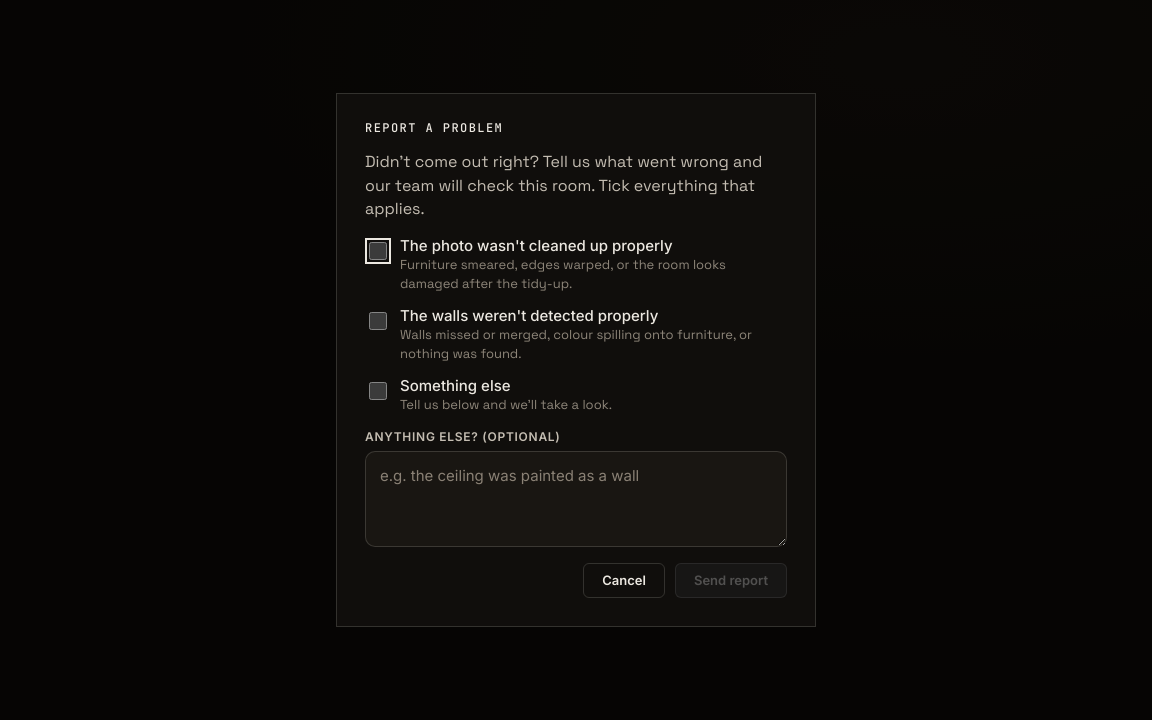
Test case: ReportDialog › keeps the form and the typing when sending fails
Click the checkbox labelled "walls weren't detected properly" at (378, 321), box [369,312,387,330]
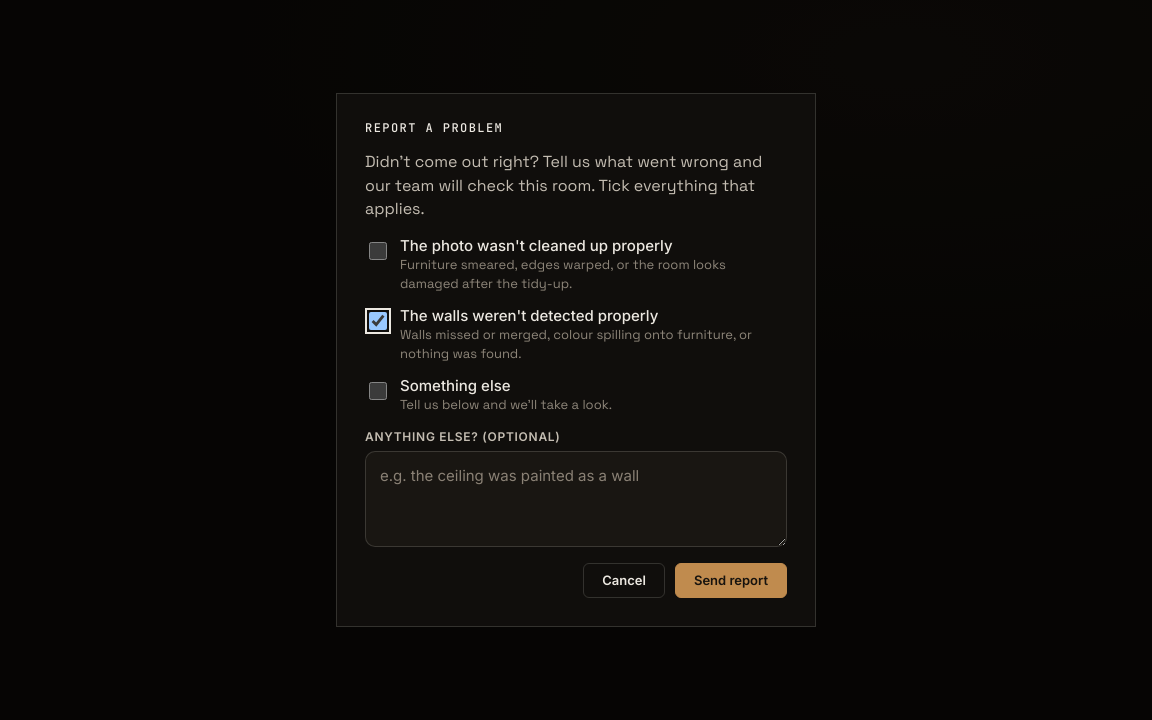
Type "half the wall is missing" into the text box labelled "Anything else? (optional)" at (576, 499), box [365,451,787,546]
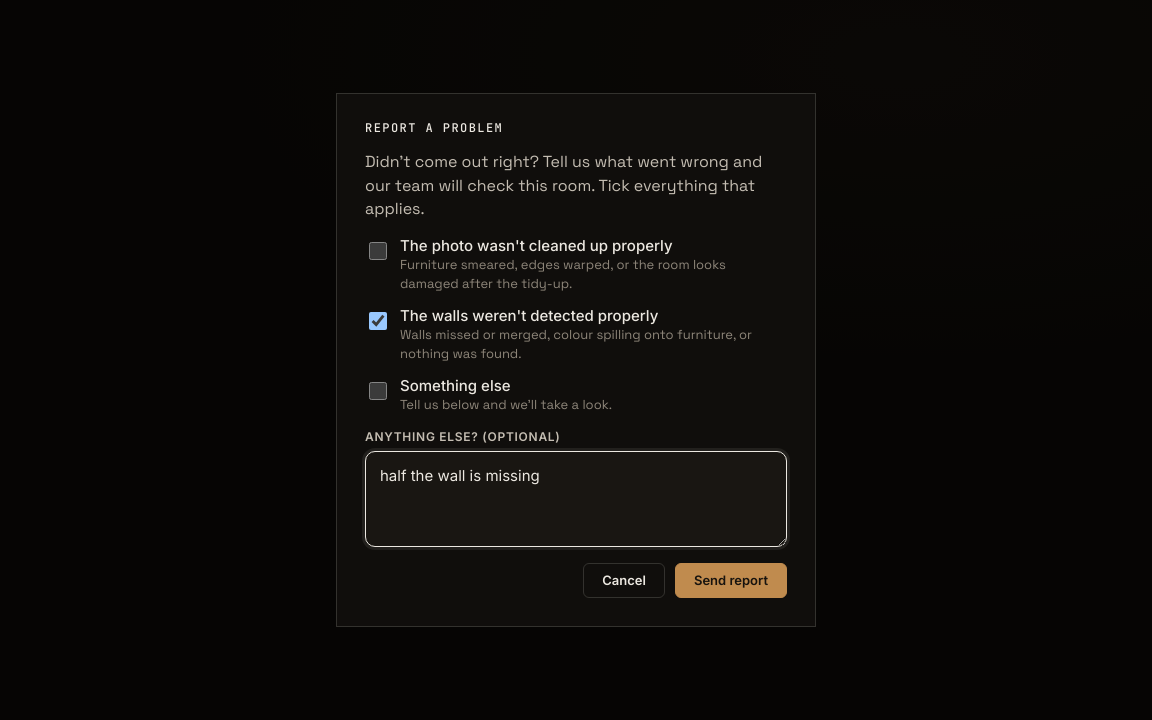
Click the button "Send report" at (731, 580), box [675,562,787,598]
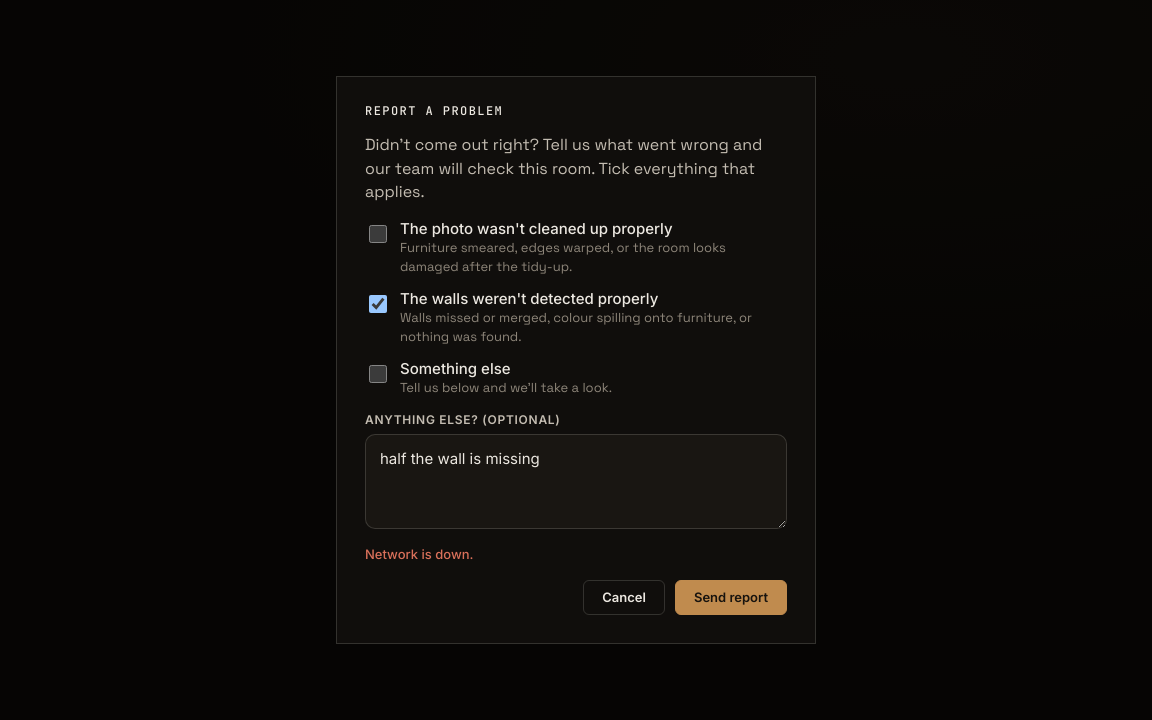
Expected: the checkbox labelled "walls weren't detected properly" is checked, [369,295,387,313]
Expected: the message reads "Network is down.", [365,546,474,562]
